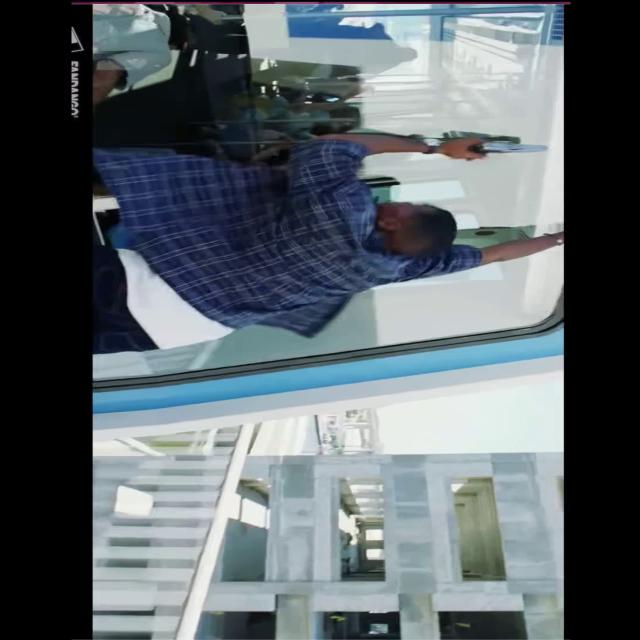weapons: (422, 131, 566, 168)
